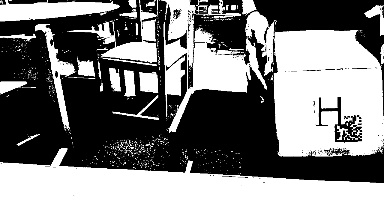H: (313, 94, 342, 123)
